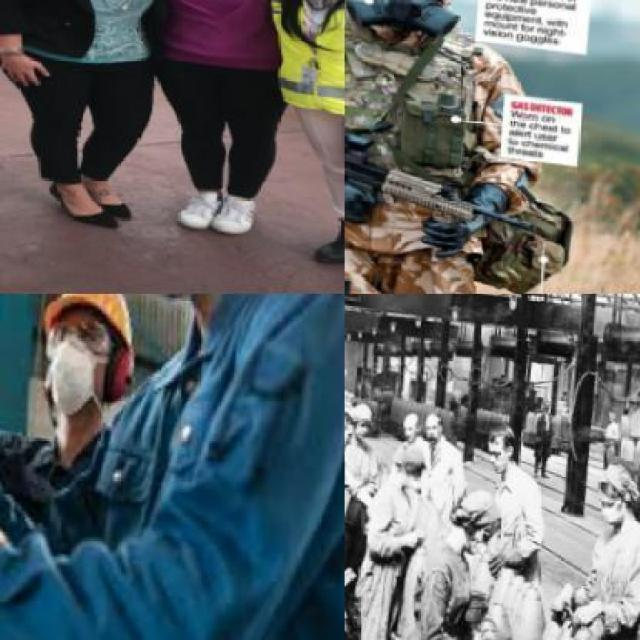Vest: (344, 5, 494, 214), (243, 0, 343, 131)
